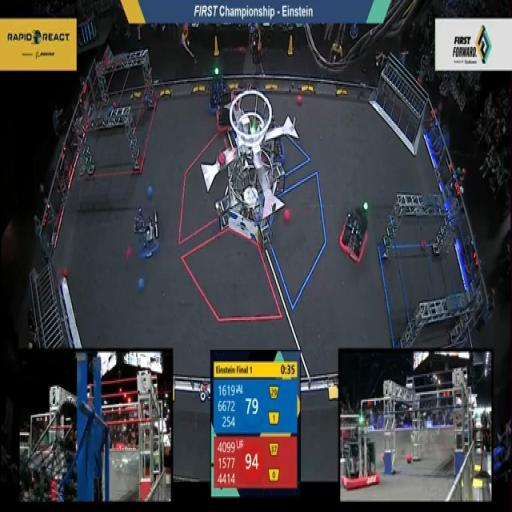robot: (336, 195, 370, 263), (129, 198, 160, 266), (208, 87, 246, 138), (203, 58, 234, 114)
